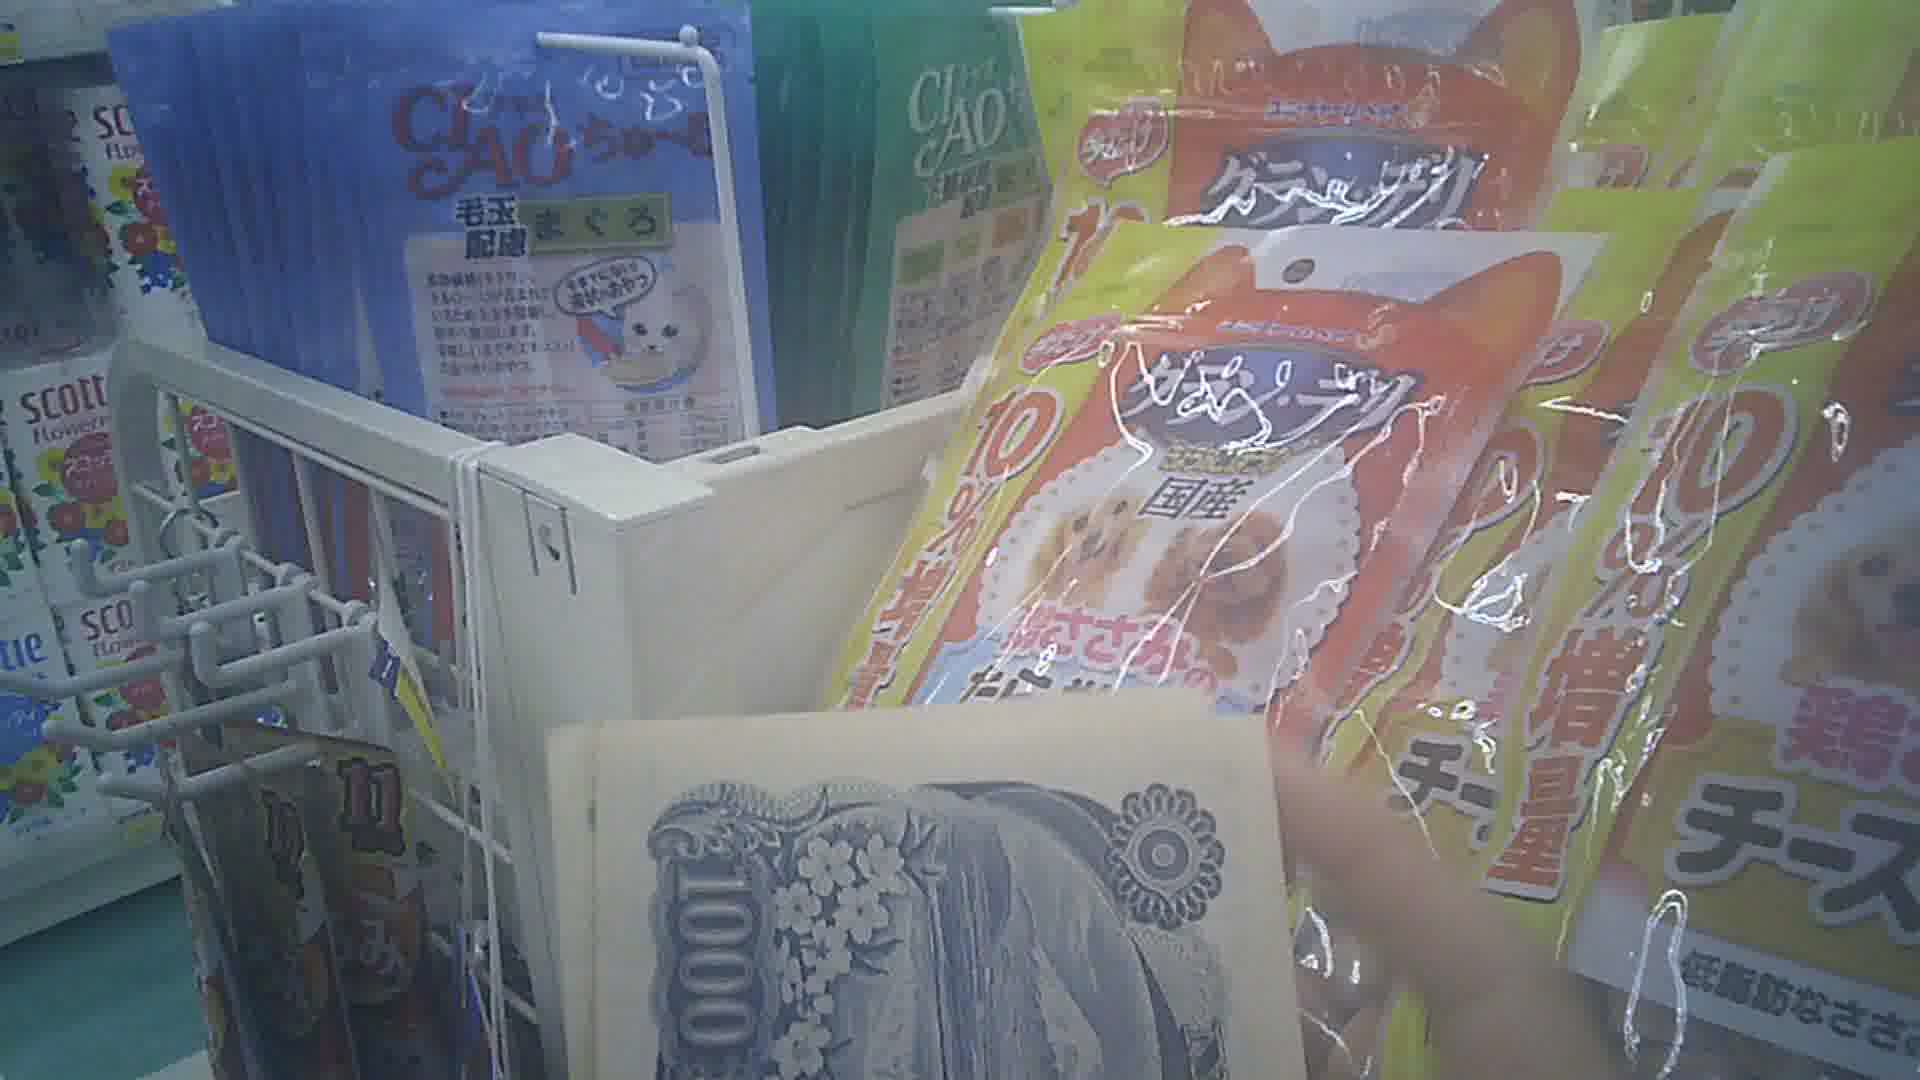1,000 Yen: (564, 727, 1233, 1079)
